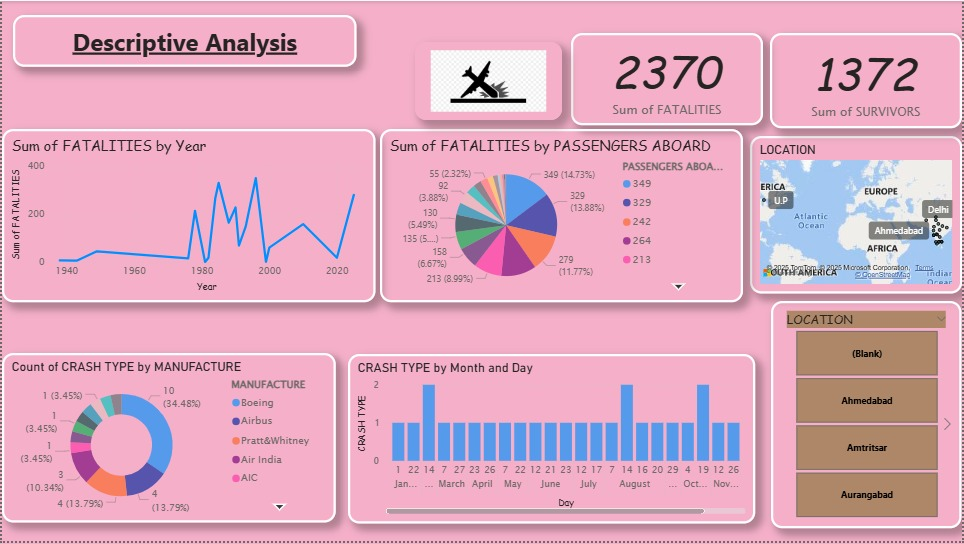

This screenshot's page, from the dashboard's own definition file:
{"tool":"powerbi","page":{"name":"Descriptive","canvas":[1280,720],"ordinal":2},"visuals":[{"type":"textbox","box":[15.1,19.2,458.3,68.6],"z":0},{"type":"lineChart","fields":{"Category":["Sheet1.DATE.Variation.Date Hierarchy.Year"],"Y":["Sum(Sheet1.FATALITIES)"]},"box":[0,170.2,498.1,230.5],"z":1000},{"type":"map","fields":{"Category":["Sheet1.LOCATION"]},"box":[997.1,180,282.9,210],"z":2000},{"type":"donutChart","fields":{"Category":["Sheet1.MANUFACTURE"],"Y":["CountNonNull(Sheet1.CRASH TYPE)"]},"box":[0,469.3,444.6,226.4],"z":3000},{"type":"card","fields":{"Values":["Sum(Sheet1.FATALITIES)"]},"box":[758.6,42.9,255.7,122.9],"z":4000},{"type":"card","fields":{"Values":["Sum(Sheet1.SURVIVORS)"]},"box":[1024.3,42.9,255.7,127.1],"z":5000},{"type":"columnChart","fields":{"Y":["CountNonNull(Sheet1.CRASH TYPE)"],"Category":["Sheet1.DATE.Variation.Date Hierarchy.Month","Sheet1.DATE.Variation.Date Hierarchy.Day"]},"box":[461.1,470.7,543.4,226.4],"z":6000},{"type":"pieChart","fields":{"Y":["Sum(Sheet1.FATALITIES)"],"Category":["Sheet1.PASSENGERS ABOARD"]},"box":[503.6,170.2,484.4,230.5],"z":7000},{"type":"slicer","fields":{"Values":["Sheet1.LOCATION"]},"box":[1025.7,400,254.3,302.9],"z":8000},{"type":"image","box":[550,54.3,195.7,104.3],"z":9000}]}

Visuals, with their boxes in screenshot pixels (x1, y1, x2, y2), scaled from the page's 1280x720 canvas onto the 964x544 screenshot:
textbox: bbox=[11, 15, 357, 66]
lineChart - Sheet1.DATE.Variation.Date Hierarchy.Year x Sum(Sheet1.FATALITIES): bbox=[0, 129, 375, 303]
map - Sheet1.LOCATION: bbox=[751, 136, 963, 295]
donutChart - Sheet1.MANUFACTURE x CountNonNull(Sheet1.CRASH TYPE): bbox=[0, 355, 335, 526]
card - Sum(Sheet1.FATALITIES): bbox=[571, 32, 764, 125]
card - Sum(Sheet1.SURVIVORS): bbox=[771, 32, 963, 128]
columnChart - CountNonNull(Sheet1.CRASH TYPE) x Sheet1.DATE.Variation.Date Hierarchy.Month: bbox=[347, 356, 757, 527]
pieChart - Sum(Sheet1.FATALITIES) x Sheet1.PASSENGERS ABOARD: bbox=[379, 129, 744, 303]
slicer - Sheet1.LOCATION: bbox=[772, 302, 963, 531]
image: bbox=[414, 41, 562, 120]
